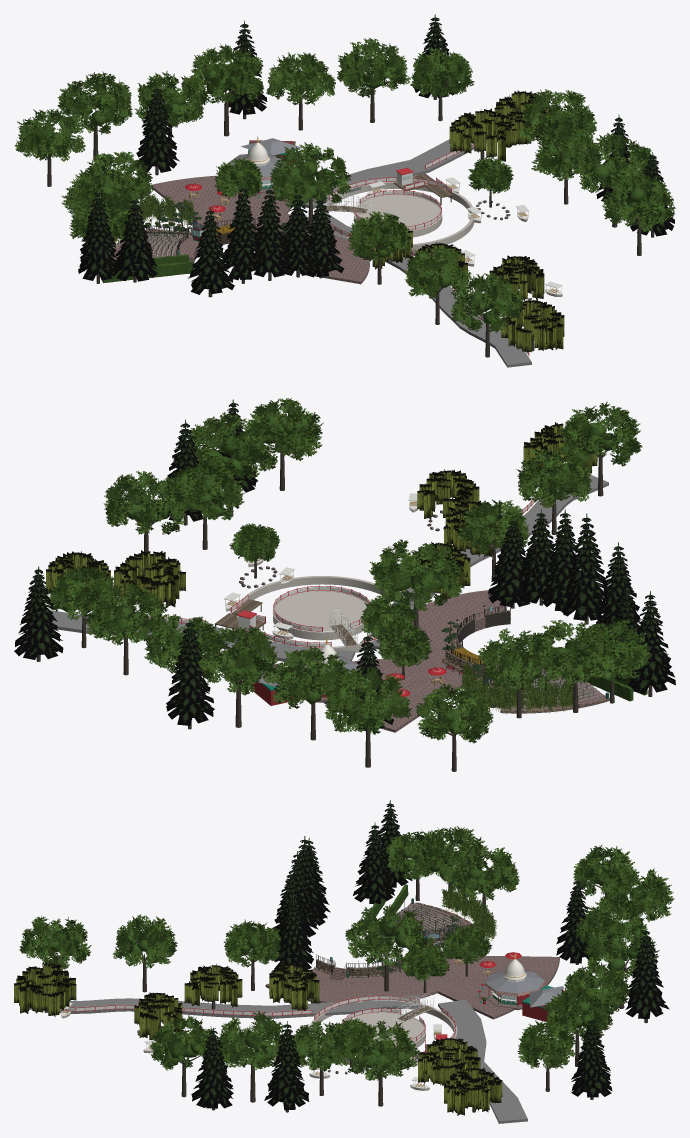
Rendered from AR_Pagode_omgeving.fbx.
3 views of the same model, one above another, from view 1: azimuth 30°, elevation 25°; view 2: azimuth 150°, elevation 25°; view 3: azimuth 270°, elevation 25° (orthographic). The views are drawn at different scales.
Parts seen in each view (by area): view 1: PG_blad_0_om, PG_spar_0_om, PG_blad_1_om, PG_wilg_0_om, PG_haag_0_om, PG_klinker_0_om, PG_asfalt_0_om, PG_beton_licht_0_om, PG_schors_0_om, PG_wit_0_om, PG_spar_1_om, PG_bamboe_0_om (+4 smaller); view 2: PG_blad_0_om, PG_blad_1_om, PG_spar_0_om, PG_wilg_0_om, PG_haag_0_om, PG_klinker_0_om, PG_beton_licht_0_om, PG_schors_0_om, PG_asfalt_0_om, PG_wit_0_om, PG_bamboe_0_om, PG_spar_1_om (+4 smaller); view 3: PG_blad_0_om, PG_blad_1_om, PG_spar_0_om, PG_wilg_0_om, PG_klinker_0_om, PG_haag_0_om, PG_asfalt_0_om, PG_wit_0_om, PG_schors_0_om, PG_beton_licht_0_om, PG_bamboe_0_om, PG_dak_toko_0_om (+5 smaller).
Boxes of the visible parts, bbox=[...] form: PG_blad_0_om: bbox=[14, 38, 675, 298]; PG_spar_0_om: bbox=[78, 17, 674, 294]; PG_blad_1_om: bbox=[61, 142, 524, 332]; PG_wilg_0_om: bbox=[361, 90, 564, 352]; PG_haag_0_om: bbox=[26, 56, 665, 324]; PG_klinker_0_om: bbox=[112, 175, 369, 284]; PG_asfalt_0_om: bbox=[302, 139, 531, 367]; PG_beton_licht_0_om: bbox=[324, 181, 474, 251]; PG_schors_0_om: bbox=[47, 70, 654, 357]; PG_wit_0_om: bbox=[193, 143, 562, 354]; PG_spar_1_om: bbox=[81, 193, 116, 253]; PG_bamboe_0_om: bbox=[109, 194, 194, 247]; PG_blad_0_om: bbox=[48, 398, 590, 743]; PG_blad_1_om: bbox=[360, 401, 650, 708]; PG_spar_0_om: bbox=[14, 403, 675, 731]; PG_wilg_0_om: bbox=[46, 422, 597, 606]; PG_haag_0_om: bbox=[61, 414, 647, 734]; PG_klinker_0_om: bbox=[317, 590, 609, 732]; PG_beton_licht_0_om: bbox=[237, 576, 397, 652]; PG_schors_0_om: bbox=[36, 399, 652, 771]; PG_asfalt_0_om: bbox=[50, 474, 608, 661]; PG_wit_0_om: bbox=[149, 493, 536, 679]; PG_bamboe_0_om: bbox=[460, 663, 573, 710]; PG_spar_1_om: bbox=[636, 595, 668, 661]; PG_blad_0_om: bbox=[112, 845, 674, 1080]; PG_blad_1_om: bbox=[19, 826, 519, 981]; PG_spar_0_om: bbox=[191, 825, 669, 1110]; PG_wilg_0_om: bbox=[14, 962, 502, 1115]; PG_klinker_0_om: bbox=[265, 903, 559, 1019]; PG_haag_0_om: bbox=[35, 845, 654, 1068]; PG_asfalt_0_om: bbox=[29, 995, 527, 1123]; PG_wit_0_om: bbox=[60, 959, 525, 1087]; PG_schors_0_om: bbox=[31, 853, 647, 1112]; PG_beton_licht_0_om: bbox=[309, 999, 457, 1067]; PG_bamboe_0_om: bbox=[427, 887, 497, 945]; PG_dak_toko_0_om: bbox=[485, 970, 563, 1007].
Size of the model in its own units: 116 by 24.74 by 135.
